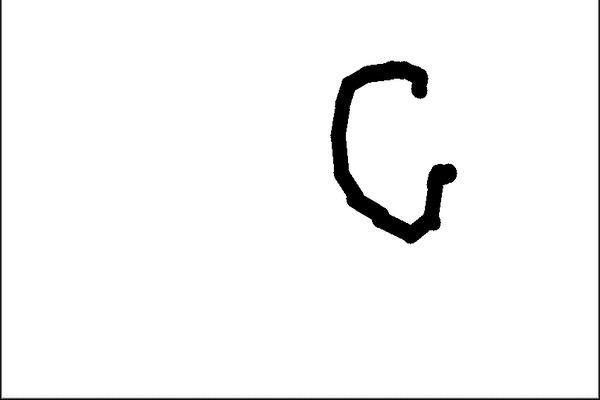C: (324, 54, 462, 246)
